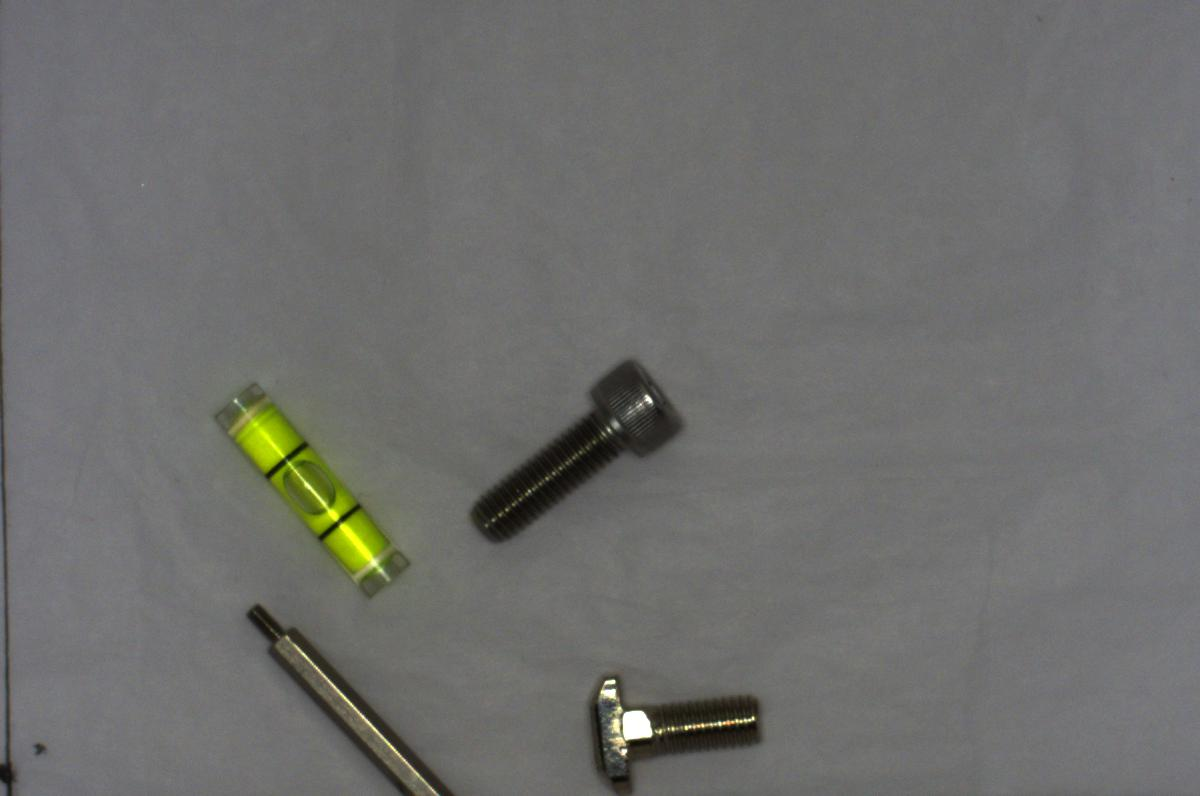Hexagon screw: (457, 347, 695, 550)
Hexagonal steel column: (244, 600, 450, 795)
Horizontal bubble: (208, 379, 415, 598)
T-shaped screw: (590, 669, 771, 795)
